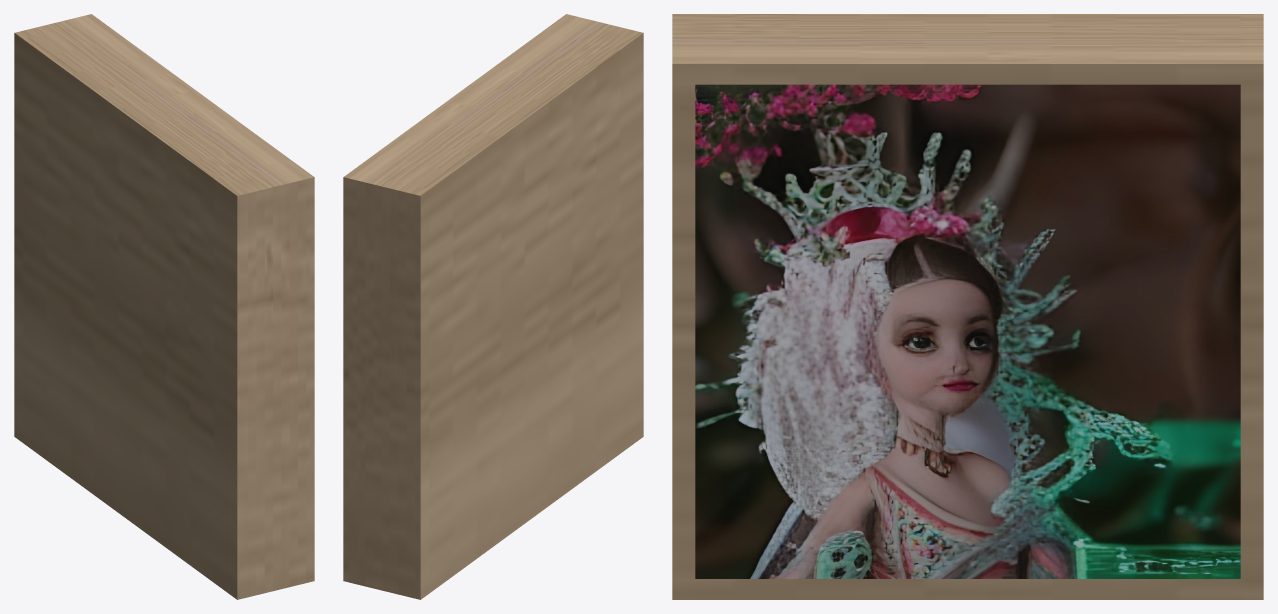
File: picture6.fbx
The picture shows the model from 3 angles, left to right: view 1: azimuth 30°, elevation 25°; view 2: azimuth 150°, elevation 25°; view 3: azimuth 270°, elevation 25°; orthographic projection. The views are drawn at different scales.
Visible parts, largest first — view 1: Cube; view 2: Cube; view 3: Cube.
Part boxes in pixels (<box>): Cube: <box>14,14,314,599</box>; Cube: <box>343,14,643,599</box>; Cube: <box>672,14,1263,599</box>.
Size of the model in its own units: 10 by 50 by 50.
2 materials, 2 textured.
